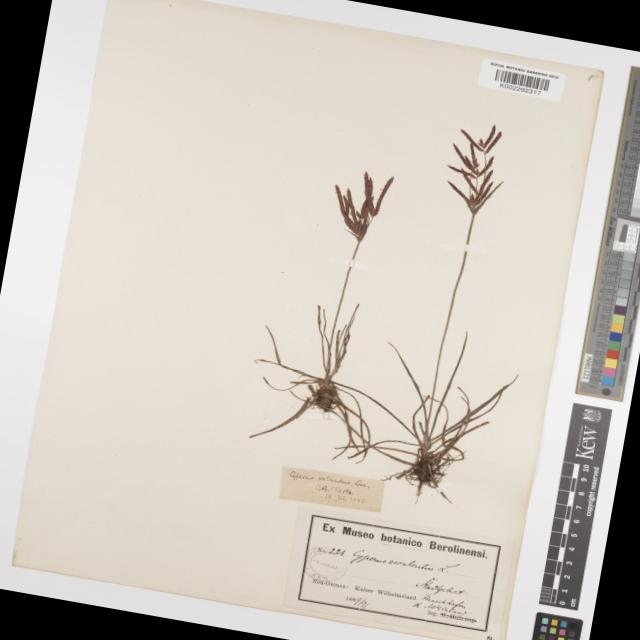cyperus: (433, 116, 518, 224), (318, 160, 402, 242)
